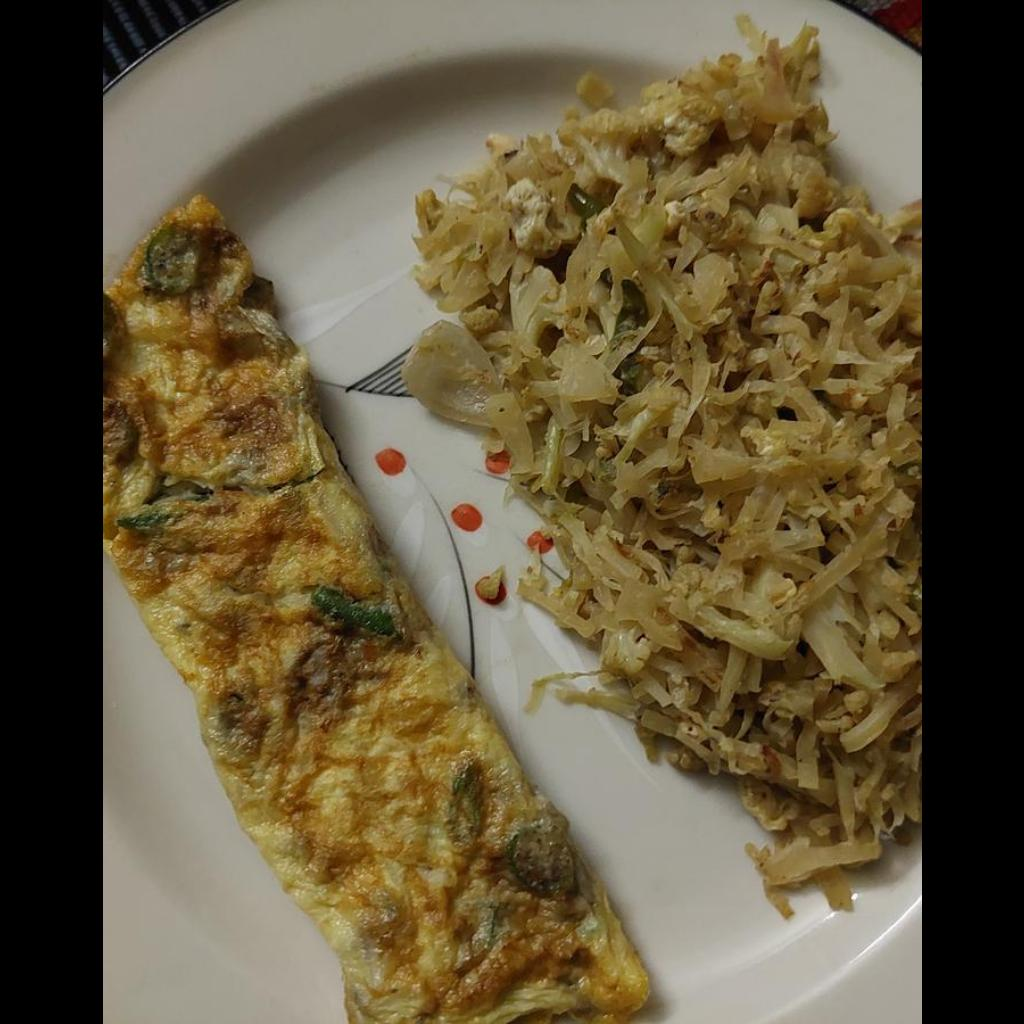egg-poached: (102, 200, 652, 1022)
vaji: (402, 24, 920, 917)
